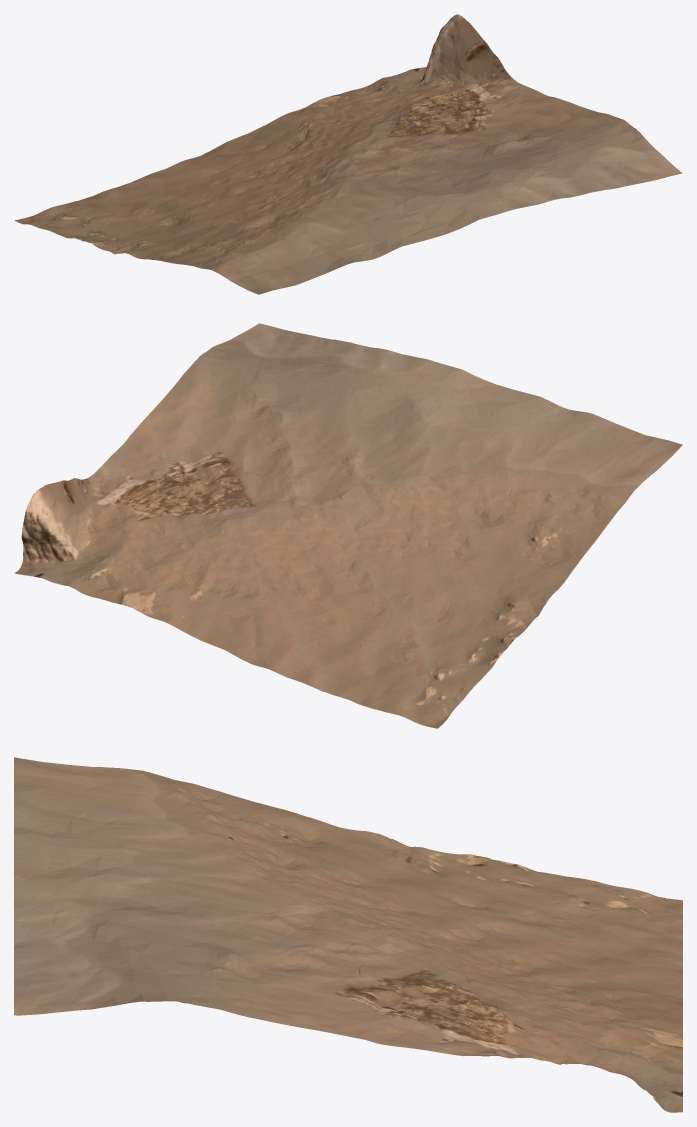
3 renders of one model, top to bottom at view 1: azimuth 30°, elevation 25°; view 2: azimuth 150°, elevation 25°; view 3: azimuth 270°, elevation 25°, orthographic. The views are drawn at different scales.
Size of the model in its own units: 1.04 by 0.3144 by 1.04.
2 materials, 2 textured.
